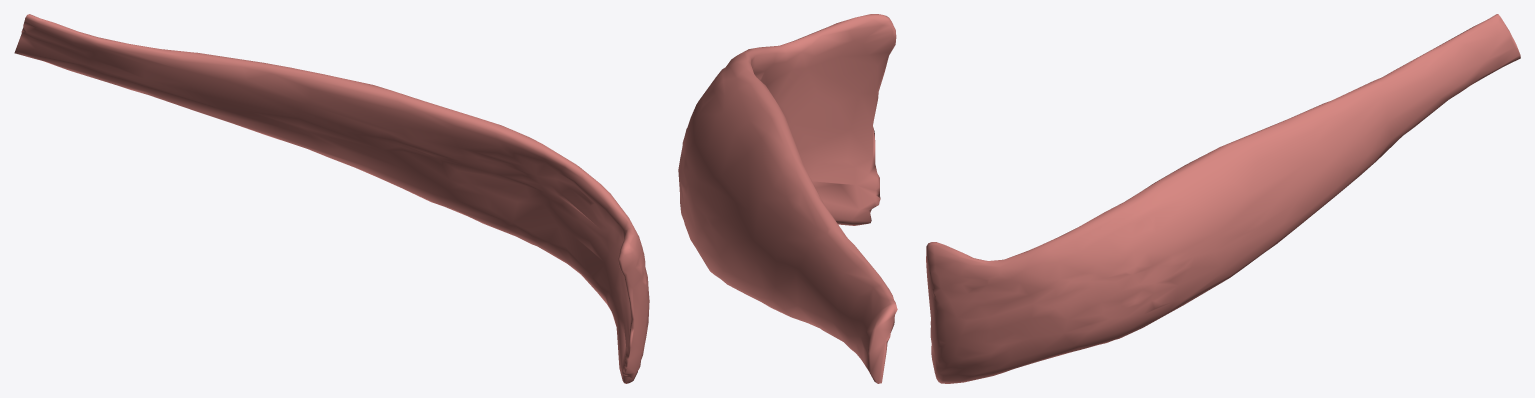
The picture shows the model from 3 angles, left to right: view 1: azimuth 30°, elevation 25°; view 2: azimuth 150°, elevation 25°; view 3: azimuth 270°, elevation 25°; orthographic projection. The views are drawn at different scales.
Visible parts, largest first — view 1: ZA_a2c723b4db15a1a9; view 2: ZA_a2c723b4db15a1a9; view 3: ZA_a2c723b4db15a1a9.
Part boxes in pixels (x1,y1,x2,y2): ZA_a2c723b4db15a1a9: (14,14,649,383); ZA_a2c723b4db15a1a9: (678,14,897,383); ZA_a2c723b4db15a1a9: (926,14,1520,383).
Bounding box in the file's own units: 0.0264 × 0.0165 × 0.0398.
